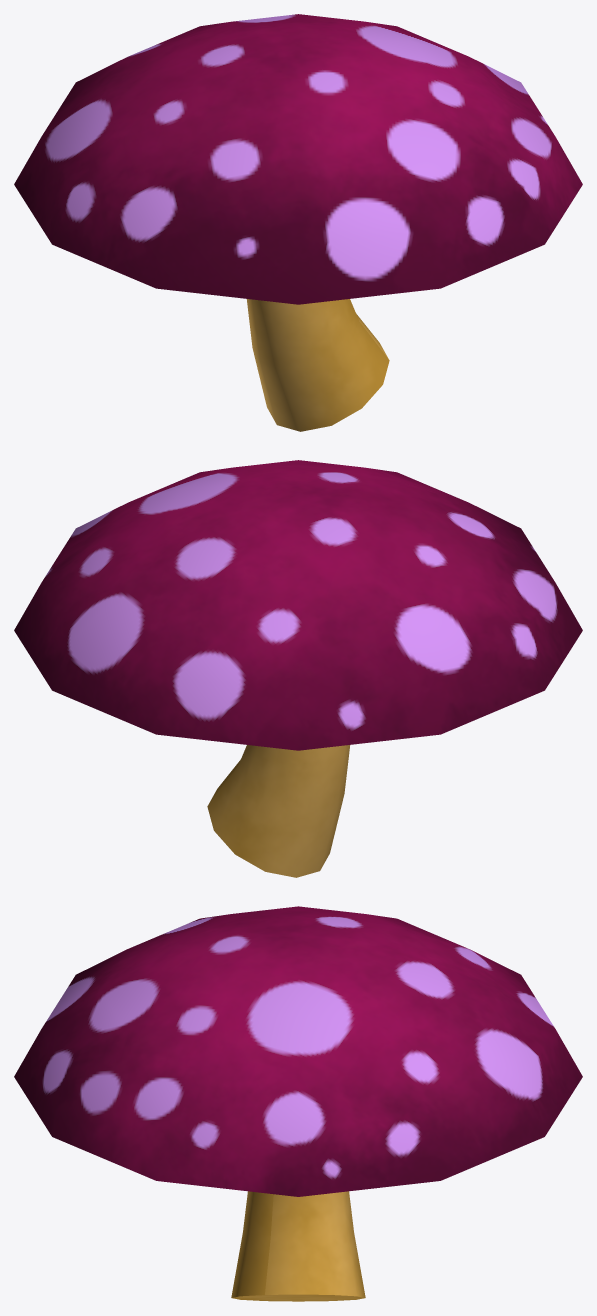
Rendered from mushroom_pink.FBX.
3 views of the same model, one above another, from view 1: azimuth 30°, elevation 25°; view 2: azimuth 150°, elevation 25°; view 3: azimuth 270°, elevation 25° (orthographic).
Parts seen in each view (by area): view 1: mushroom_2; view 2: mushroom_2; view 3: mushroom_2.
Boxes of the visible parts, box(x1,y1,x2,y2) form: mushroom_2: box(14, 14, 582, 431); mushroom_2: box(14, 460, 582, 877); mushroom_2: box(14, 906, 582, 1301).
Size of the model in its own units: 149 by 107 by 149.
Materials: 1 (1 with a texture image).
